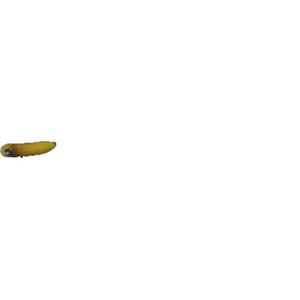banana: (1, 136, 58, 164)
